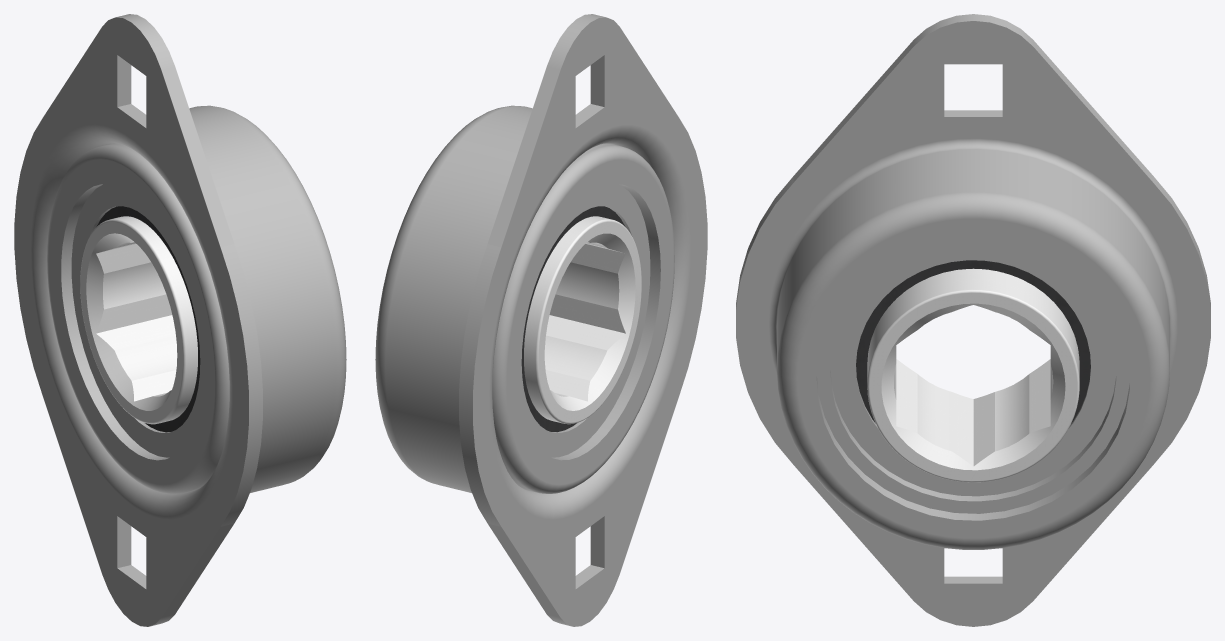
3 views of the same model, side by side, from view 1: azimuth 30°, elevation 25°; view 2: azimuth 150°, elevation 25°; view 3: azimuth 270°, elevation 25° (orthographic).
Visible parts, largest first — view 1: carbon steel, texture, texture-3; view 2: carbon steel, texture, texture-3; view 3: carbon steel, texture, texture-3.
Part boxes in pixels (<box>): carbon steel: <box>14,14,346,626</box>; texture: <box>80,216,197,424</box>; texture-3: <box>96,206,200,432</box>; carbon steel: <box>375,14,707,626</box>; texture: <box>524,216,641,424</box>; texture-3: <box>521,206,625,432</box>; carbon steel: <box>736,14,1210,626</box>; texture: <box>867,268,1079,482</box>; texture-3: <box>856,260,1090,423</box>.
Bounding box in the file's own units: 0.0204 × 0.0825 × 0.0586.
5 materials, 3 textured.
